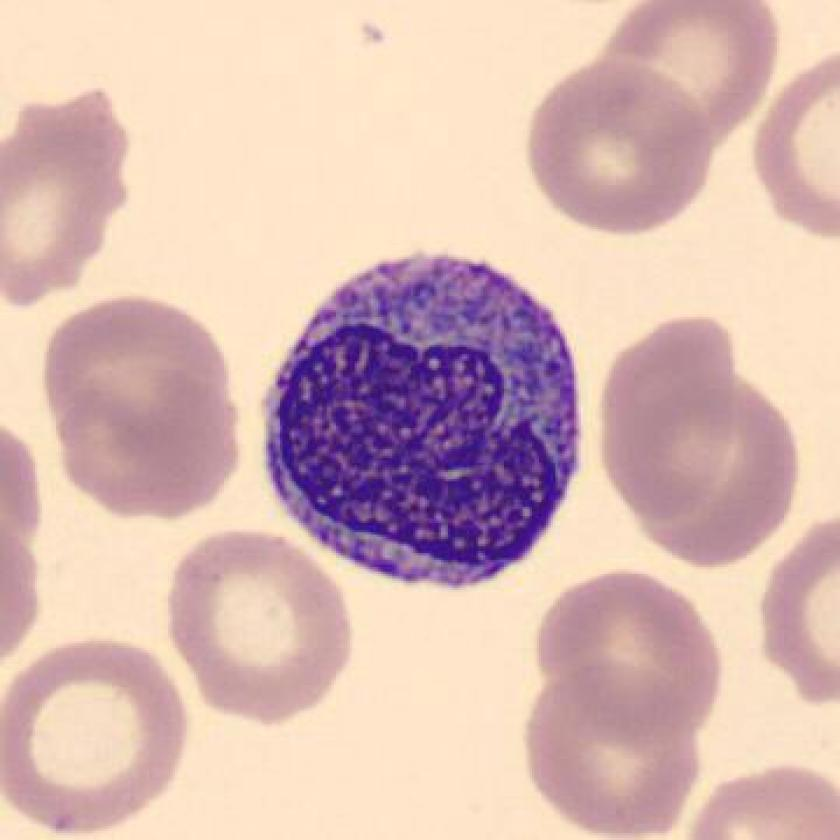monocyte: (244, 235, 612, 612)
